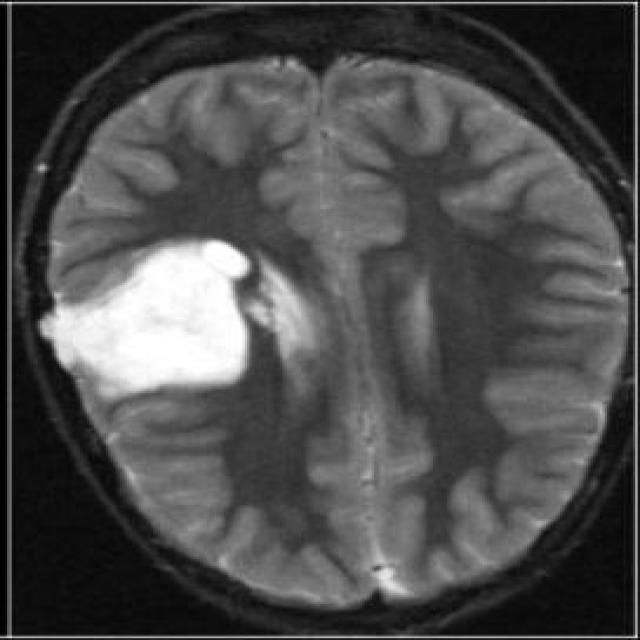brain tumor: (47, 238, 254, 411)
